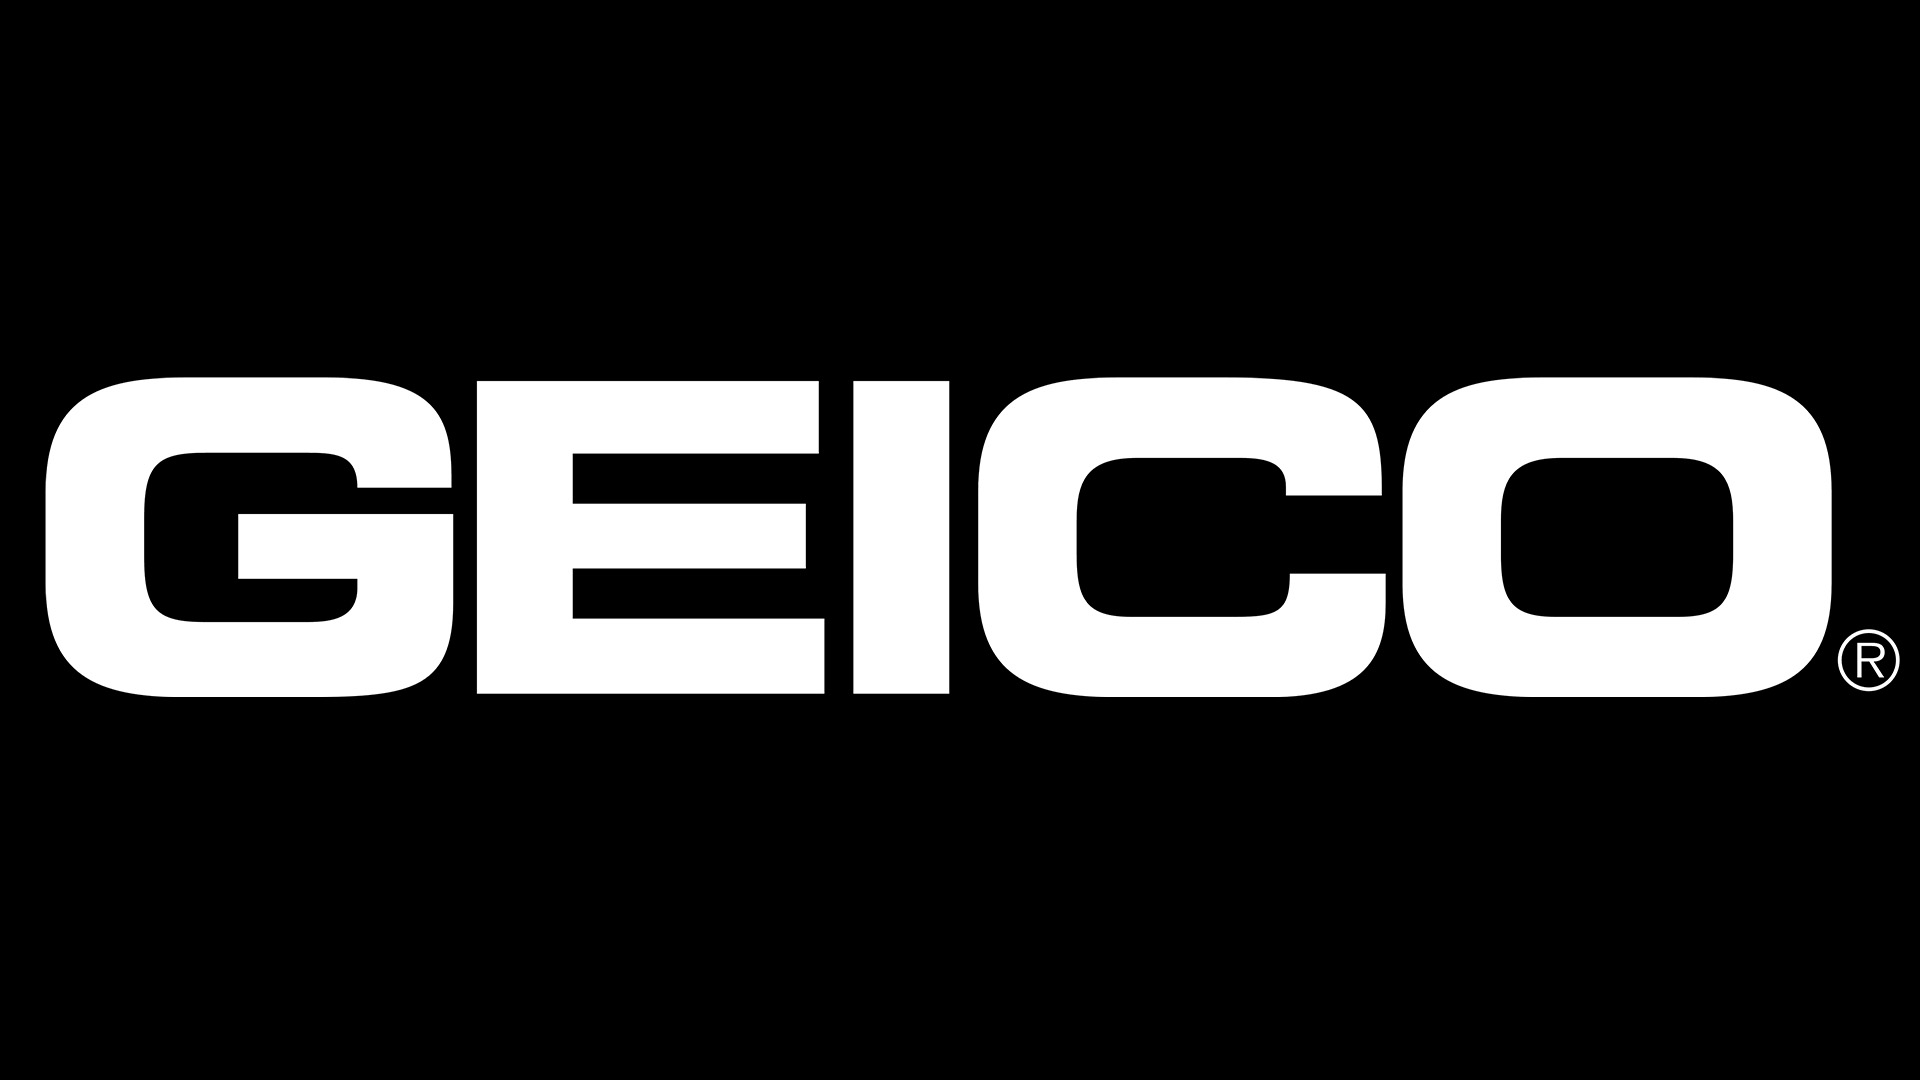Geico: (36, 356, 1904, 719)
